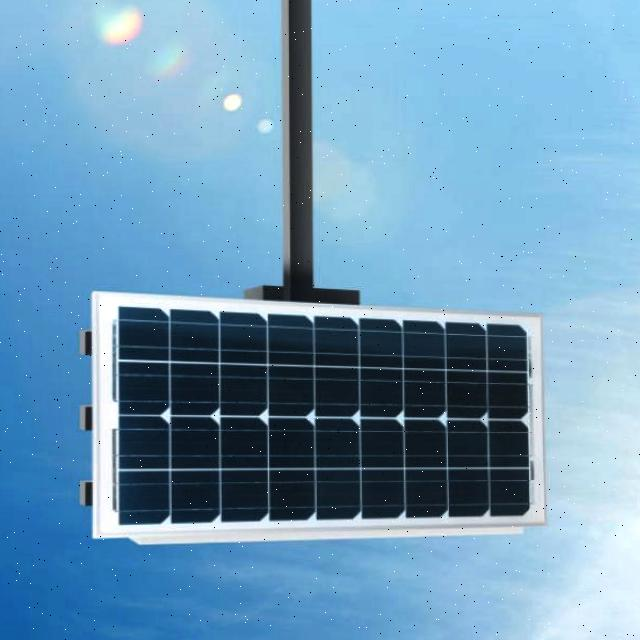Normal Solar Panel: (102, 296, 542, 534)
